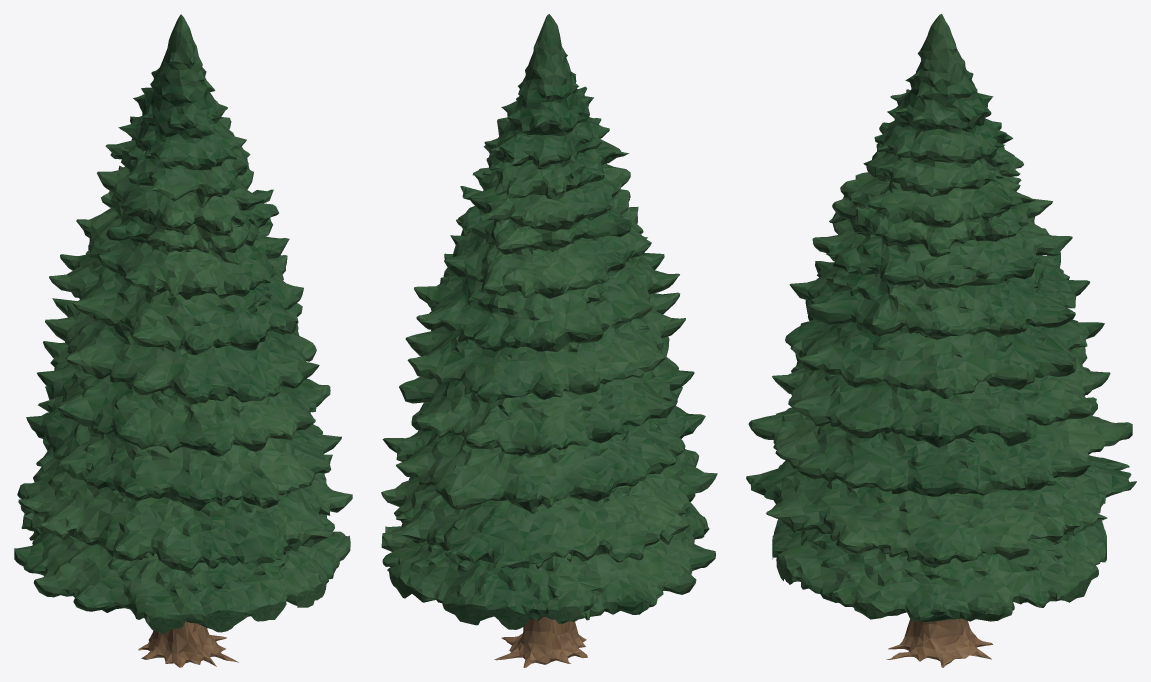
File: fir_tree.glb
3 renders of one model, left to right at view 1: azimuth 30°, elevation 25°; view 2: azimuth 150°, elevation 25°; view 3: azimuth 270°, elevation 25°, orthographic.
Parts seen in each view (by area): view 1: world; view 2: world; view 3: world.
Boxes of the visible parts, x1,y1,x2,y2 form: world: [14, 14, 352, 667]; world: [381, 14, 717, 667]; world: [746, 14, 1136, 667].
Size of the model in its own units: 2.43 by 5 by 2.8.
